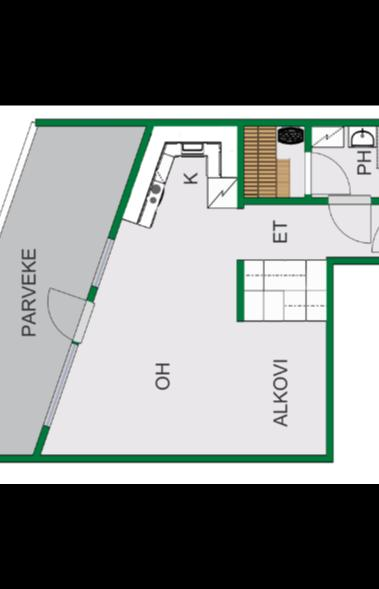door: (42, 286, 95, 346), (303, 151, 352, 198), (326, 194, 368, 246)
window: (37, 344, 81, 430), (82, 234, 120, 290)
